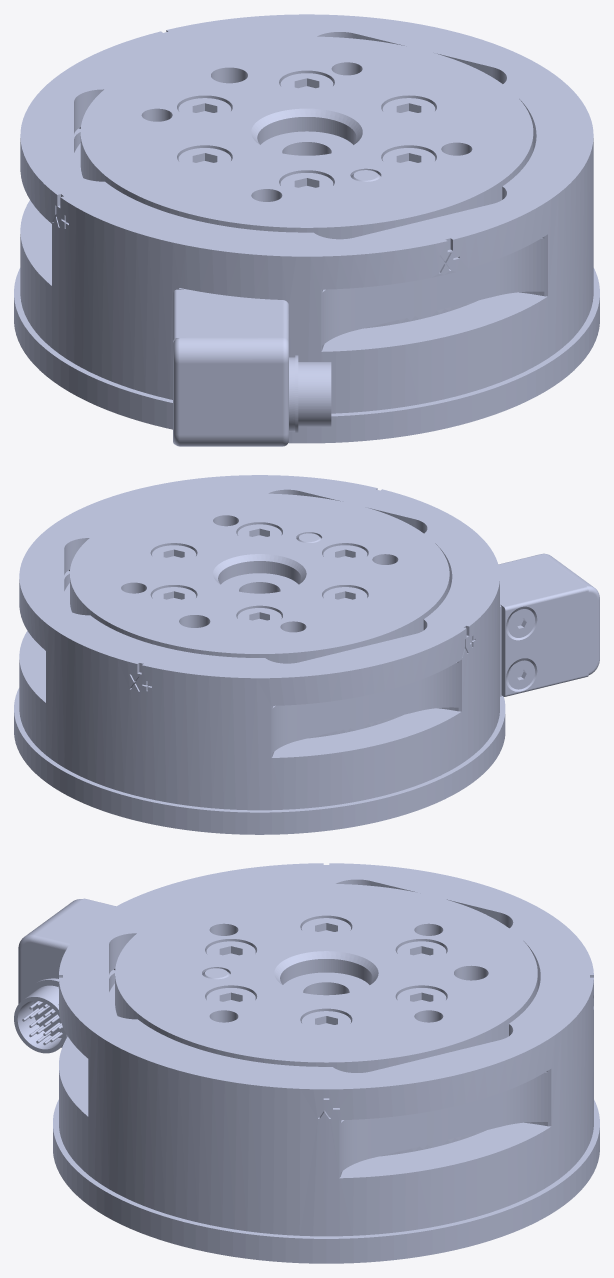
The model's file is ati_delta_ft_sensor.dae.
The picture shows the model from 3 angles, top to bottom: view 1: azimuth 30°, elevation 25°; view 2: azimuth 150°, elevation 25°; view 3: azimuth 270°, elevation 25°; orthographic projection. The views are drawn at different scales.
Visible parts, largest first — view 1: node0; view 2: node0; view 3: node0.
Part boxes in pixels (left/top/right/bottom): node0: left=14, top=14, right=599, bottom=446; node0: left=14, top=475, right=599, bottom=834; node0: left=14, top=863, right=599, bottom=1263.
Size of the model in its own units: 0.0973 by 0.1012 by 0.0333.
